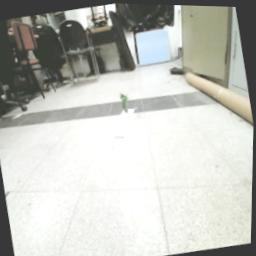herb: (120, 91, 134, 115)
